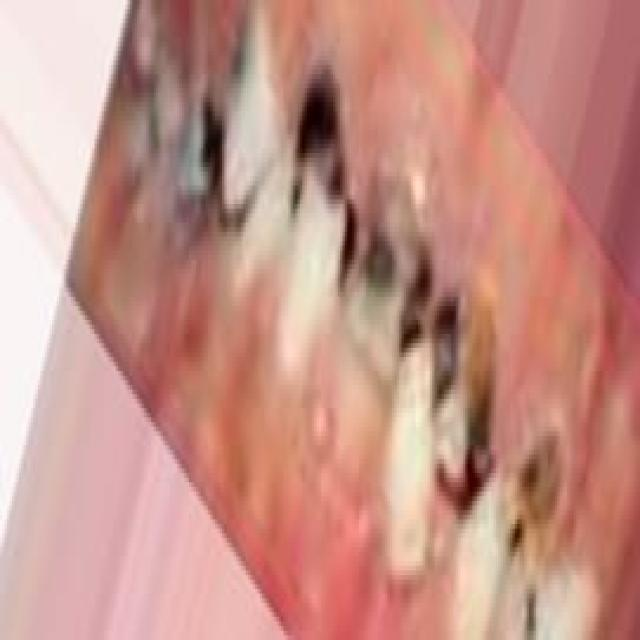caries: (498, 416, 564, 570), (411, 245, 464, 426), (298, 50, 347, 239), (458, 321, 506, 502), (178, 94, 244, 225), (359, 175, 408, 333), (337, 181, 366, 320)
